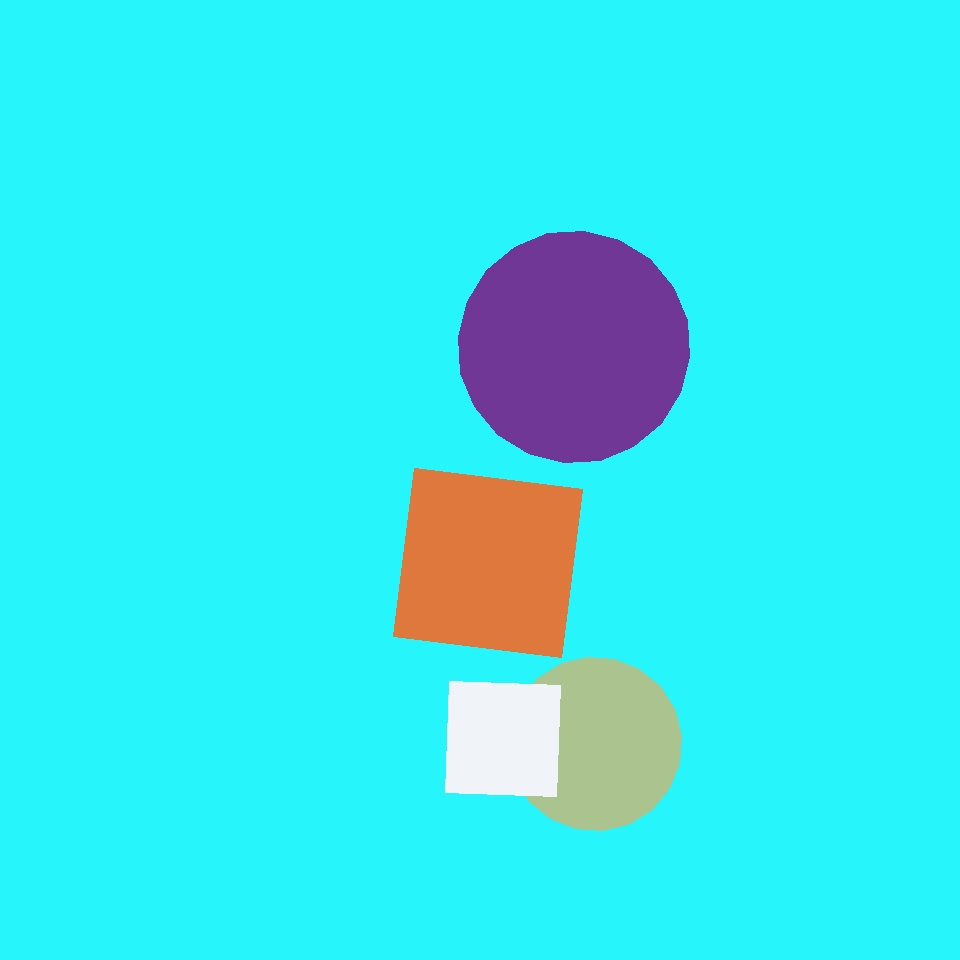square: (393, 468, 582, 657), (446, 682, 560, 796)
triangle: (458, 232, 690, 462), (508, 658, 682, 830)
